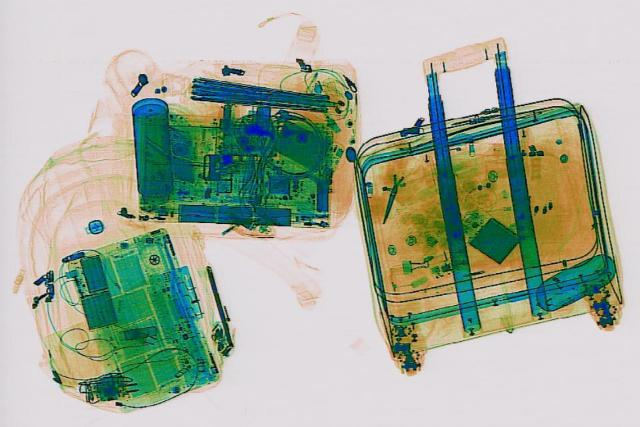Knife: (380, 170, 404, 223)
